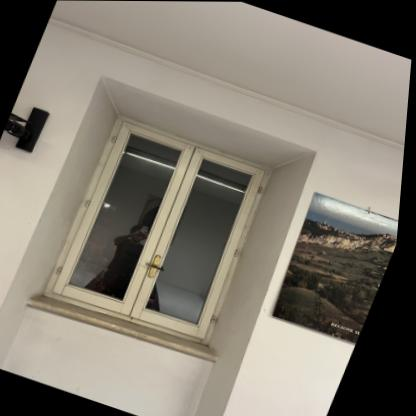Window: (53, 111, 287, 343)
